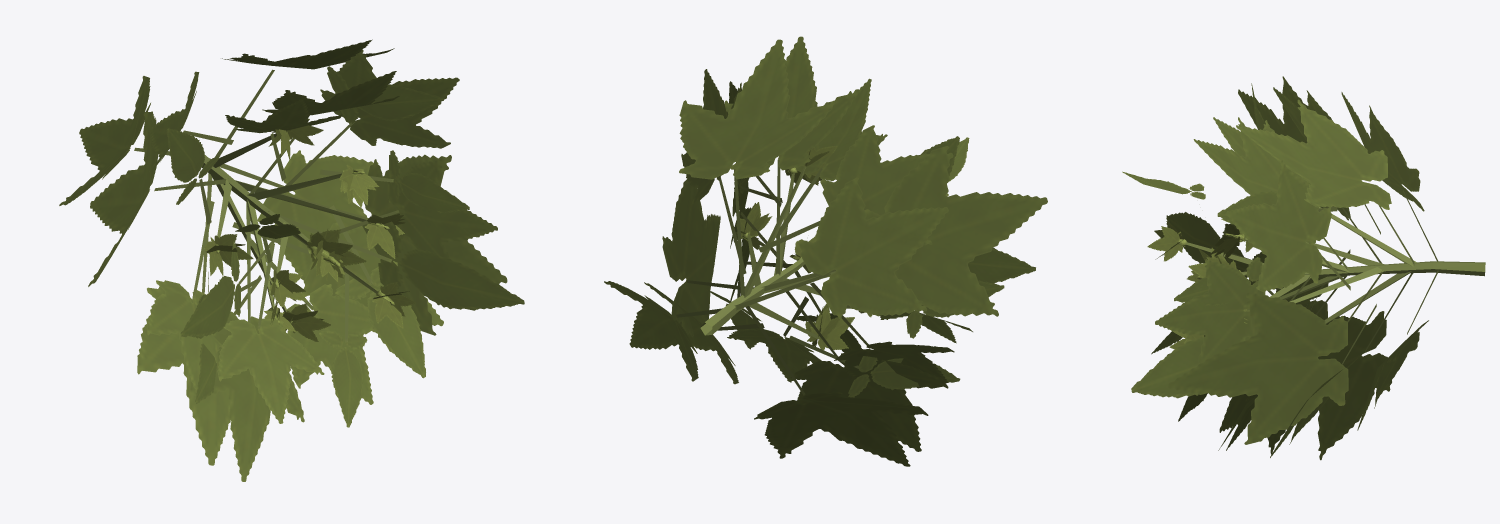
Rendered from p_afghan_preflower_c1_cards.obj.
3 renders of one model, left to right at view 1: azimuth 30°, elevation 25°; view 2: azimuth 150°, elevation 25°; view 3: azimuth 270°, elevation 25°, orthographic. The views are drawn at different scales.
Size of the model in its own units: 1.43 by 1.44 by 1.06.
1 material, 1 textured.
